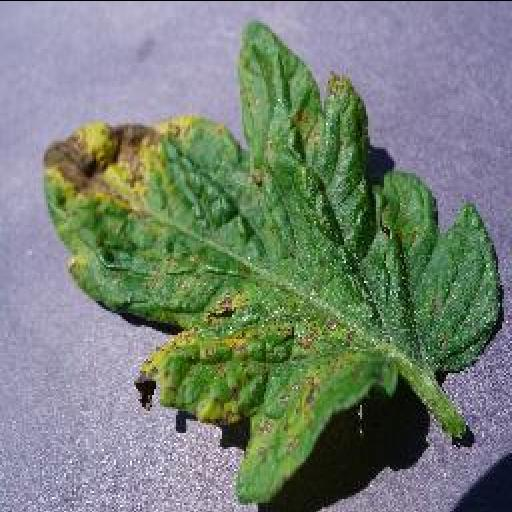disease_tomato: (40, 20, 502, 498)
